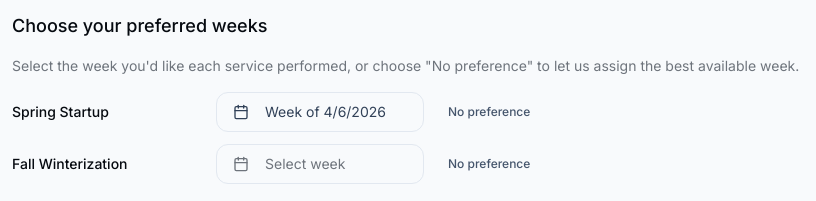
WeekPickerStep › clicking "No preference" shows "Assign for me" label and removes selection
The width and height of the screenshot is (816, 201).
Click the button with test id "no-pref-btn-spring_startup" at (489, 112), box [436,96,542,128]
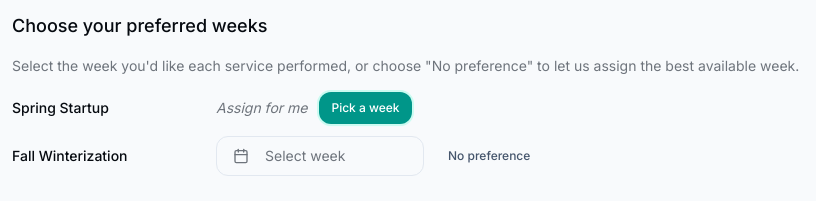
Now the text with test id "no-pref-label-spring_startup" reads "Assign for me", box [216,99,307,116]
